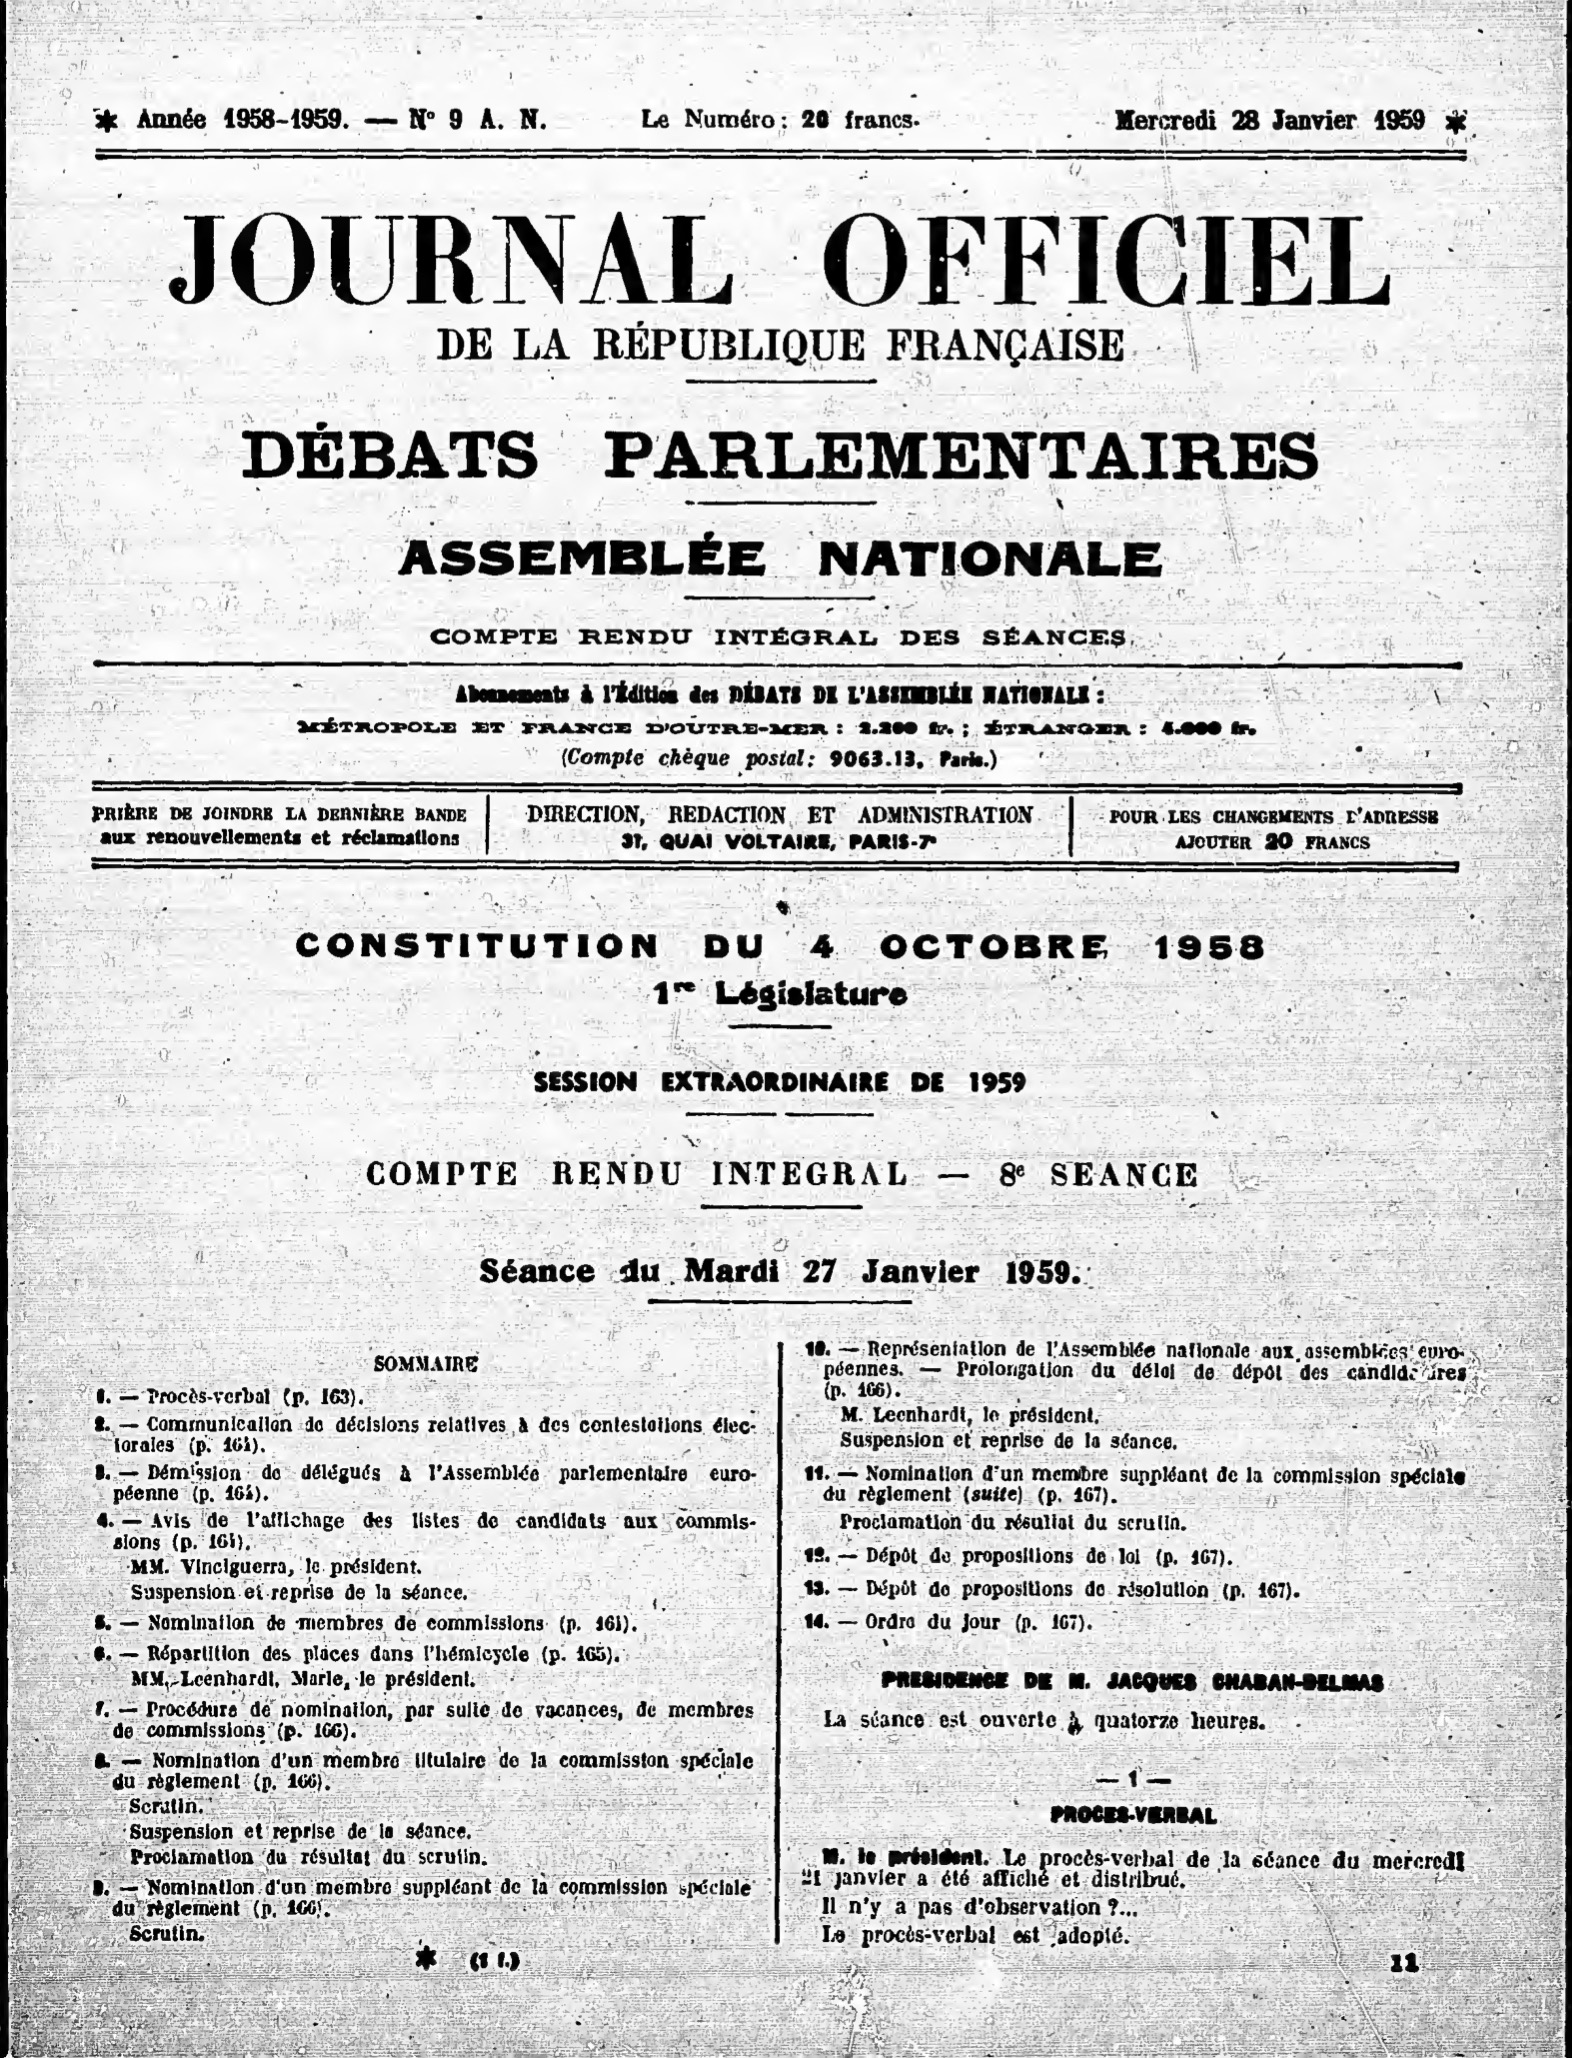MainZone-Date: (1100, 103, 1470, 139)
MainZone-Head: (157, 196, 1410, 371), (281, 916, 1277, 1008), (228, 416, 1344, 493), (383, 528, 1179, 590), (347, 1150, 1208, 1199), (414, 614, 1136, 658), (470, 1247, 1097, 1295), (518, 1058, 1035, 1102), (366, 1345, 490, 1380)
MainZone-ListItem: (793, 1330, 1478, 1457), (87, 1746, 753, 1870), (83, 1508, 752, 1606), (794, 1462, 1475, 1539), (88, 1871, 756, 1945), (85, 1694, 757, 1747), (86, 1640, 714, 1694), (85, 1410, 761, 1460), (85, 1467, 763, 1503), (87, 1606, 667, 1640), (794, 1574, 1307, 1608), (795, 1541, 1241, 1574), (793, 1607, 1097, 1638), (84, 1383, 372, 1407)
MainZone-Other: (280, 707, 1264, 742), (516, 800, 1048, 853), (1088, 797, 1450, 856), (446, 679, 1111, 711), (80, 798, 478, 849), (555, 746, 1001, 775)
MainZone-P: (806, 1840, 1476, 1893), (812, 1705, 1274, 1739), (800, 1920, 1134, 1952), (812, 1893, 1142, 1921)
RunningTitleZone: (406, 1948, 525, 1978)
StampZone: (93, 102, 555, 136), (619, 105, 926, 135)
TitlePageZone: (1380, 1946, 1432, 1983), (1091, 1768, 1177, 1790)
